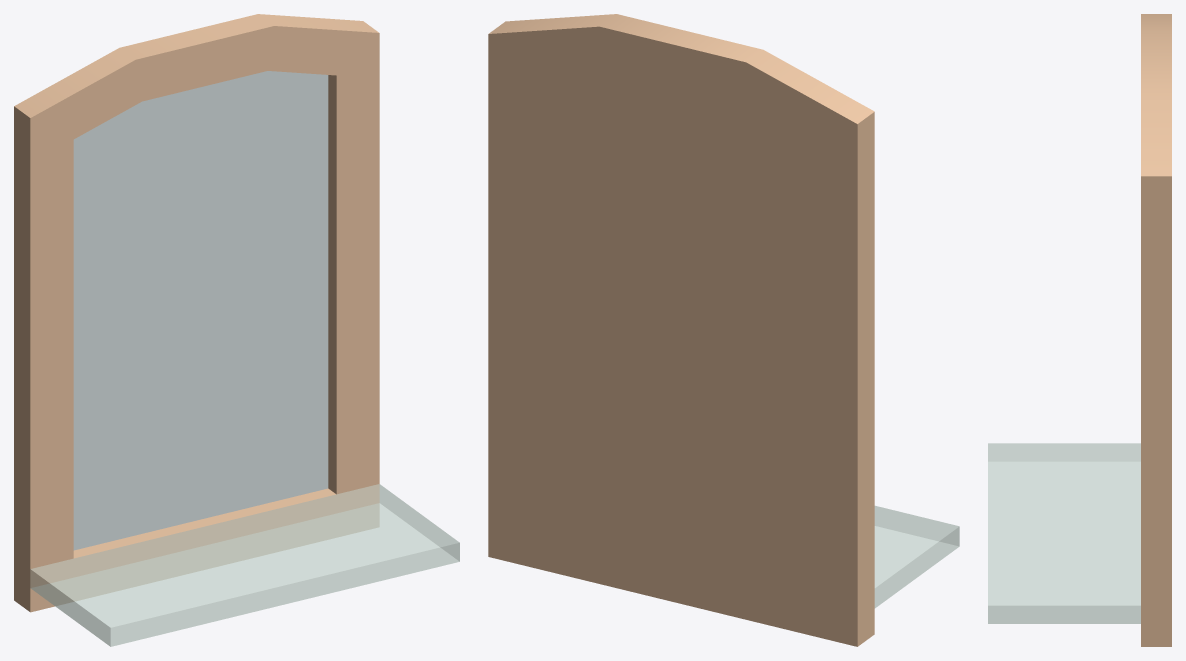
File: bathroomMirror.gltf
The picture shows the model from 3 angles, left to right: view 1: azimuth 30°, elevation 25°; view 2: azimuth 150°, elevation 25°; view 3: azimuth 270°, elevation 25°; orthographic projection. The views are drawn at different scales.
Parts seen in each view (by area): view 1: bathroomMirror(Clone); view 2: bathroomMirror(Clone); view 3: bathroomMirror(Clone).
Part boxes in pixels (x1=…): bathroomMirror(Clone): x1=14, y1=14, x2=459, y2=646; bathroomMirror(Clone): x1=488, y1=14, x2=959, y2=646; bathroomMirror(Clone): x1=988, y1=14, x2=1171, y2=646.
Bounding box in the file's own units: 0.3013 × 0.4346 × 0.1444.
